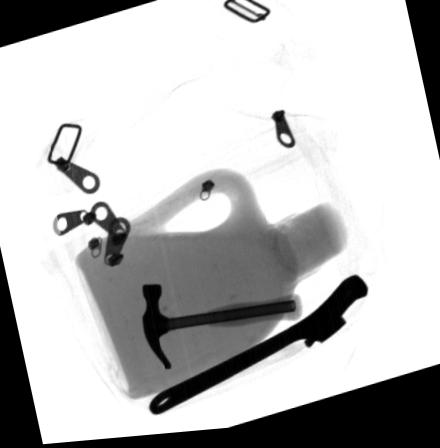Hammer: (140, 284, 303, 375)
Wrench: (148, 278, 367, 417)
